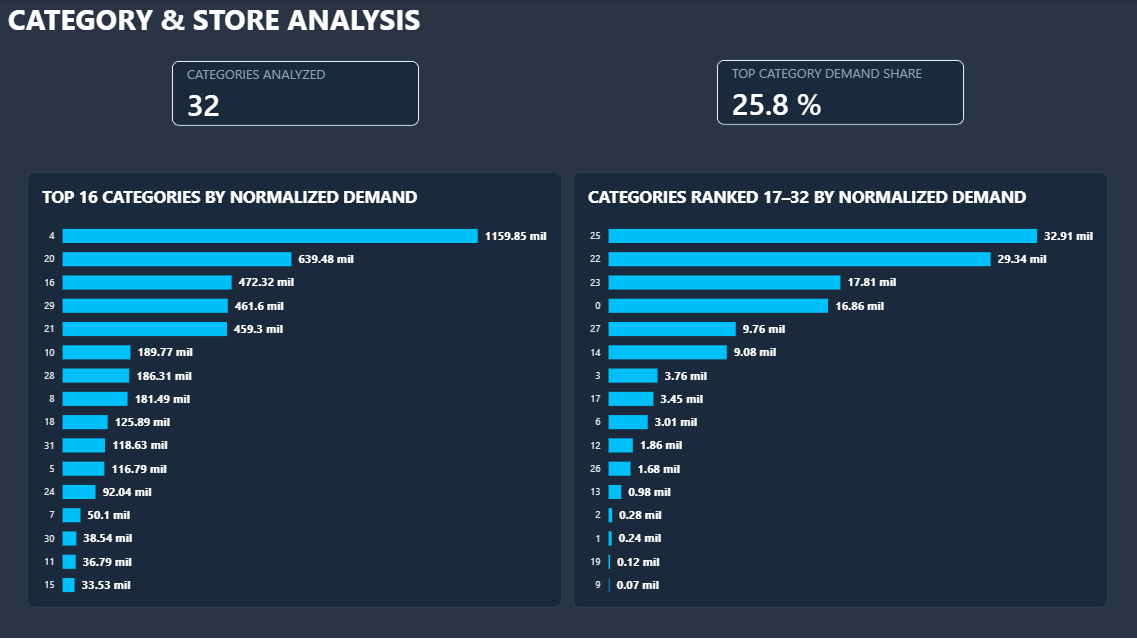

The dashboard page shown, as its layout file describes it:
{"tool":"powerbi","page":{"name":"Category & Store Analysis","canvas":[1280,720],"ordinal":2},"visuals":[{"type":"textbox","box":[10,0,622.9,48.6],"z":0},{"type":"clusteredBarChart","title":"TOP 16 CATEGORIES BY NORMALIZED DEMAND","fields":{"Category":["17_category_demand_summary.first_category_id"],"Y":["Sum(17_category_demand_summary.normalized_demand_total)"]},"box":[32,195,602,490],"z":1000},{"type":"clusteredBarChart","title":"CATEGORIES RANKED 17–32 BY NORMALIZED DEMAND","fields":{"Category":["17_category_demand_summary.first_category_id"],"Y":["Sum(17_category_demand_summary.normalized_demand_total)"]},"box":[646,195,602,490],"z":2000},{"type":"cardVisual","fields":{"Data":["Count(17_category_demand_summary.first_category_id)"]},"box":[193,68.8,280,75],"z":3000},{"type":"cardVisual","fields":{"Data":["17_category_demand_summary.Top Category Demand Share"]},"box":[807,68,280,75],"z":4000}]}

Visuals, with their boxes in screenshot pixels (x1, y1, x2, y2), scaled from the page's 1280x720 canvas onto the 1137x639 screenshot:
textbox: <box>9,0,562,43</box>
"TOP 16 CATEGORIES BY NORMALIZED DEMAND" clusteredBarChart: <box>28,173,563,608</box>
"CATEGORIES RANKED 17–32 BY NORMALIZED DEMAND" clusteredBarChart: <box>574,173,1109,608</box>
cardVisual - Count(17_category_demand_summary.first_category_id): <box>171,61,420,128</box>
cardVisual - 17_category_demand_summary.Top Category Demand Share: <box>717,60,966,127</box>
